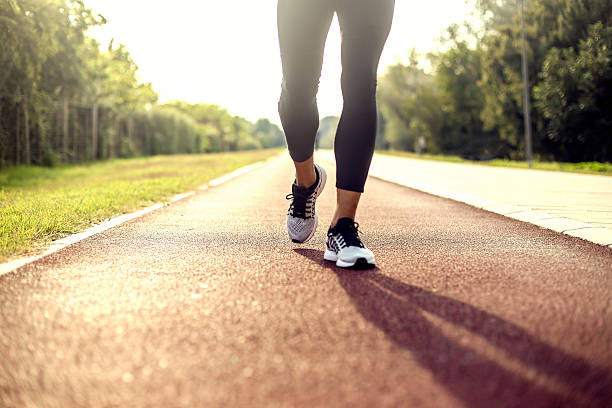Footwear: (314, 212, 384, 272), (279, 165, 326, 246)
